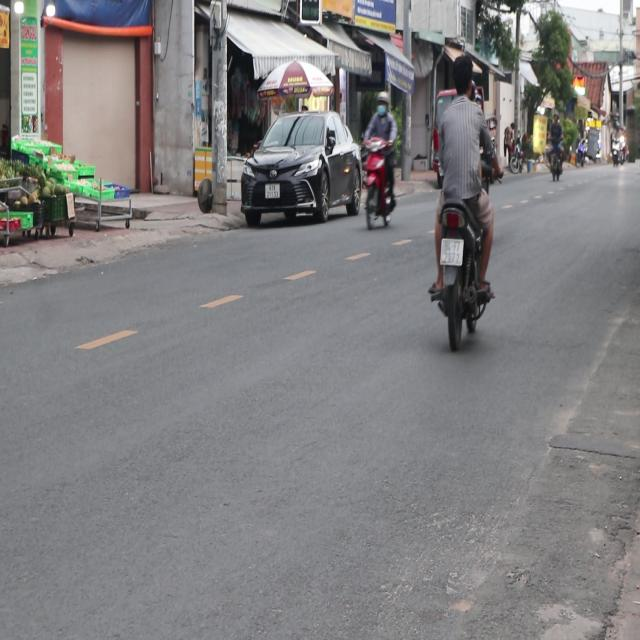licenseplate: (426, 50, 498, 348), (359, 90, 398, 230)
motorcyclist: (450, 53, 474, 98)
nohelmet: (440, 238, 463, 264)
